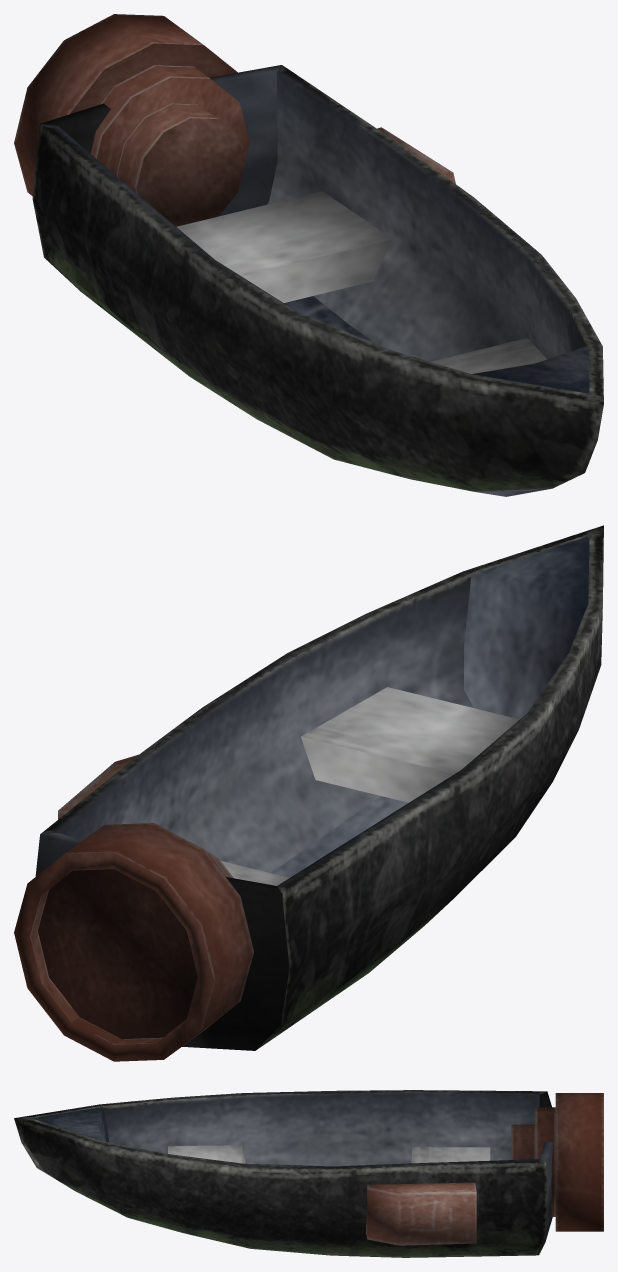
Rendered from MESH_BOAT_BREAK.fbx.
3 renders of one model, top to bottom at view 1: azimuth 30°, elevation 25°; view 2: azimuth 150°, elevation 25°; view 3: azimuth 270°, elevation 25°, orthographic. The views are drawn at different scales.
Parts seen in each view (by area): view 1: MESH_BOAT_BREAK; view 2: MESH_BOAT_BREAK; view 3: MESH_BOAT_BREAK.
Boxes of the visible parts, x1=… form: MESH_BOAT_BREAK: x1=14, y1=14, x2=603, y2=496; MESH_BOAT_BREAK: x1=14, y1=525, x2=603, y2=1061; MESH_BOAT_BREAK: x1=14, y1=1090, x2=603, y2=1257.
Size of the model in its own units: 0.492 by 0.3476 by 1.34.
